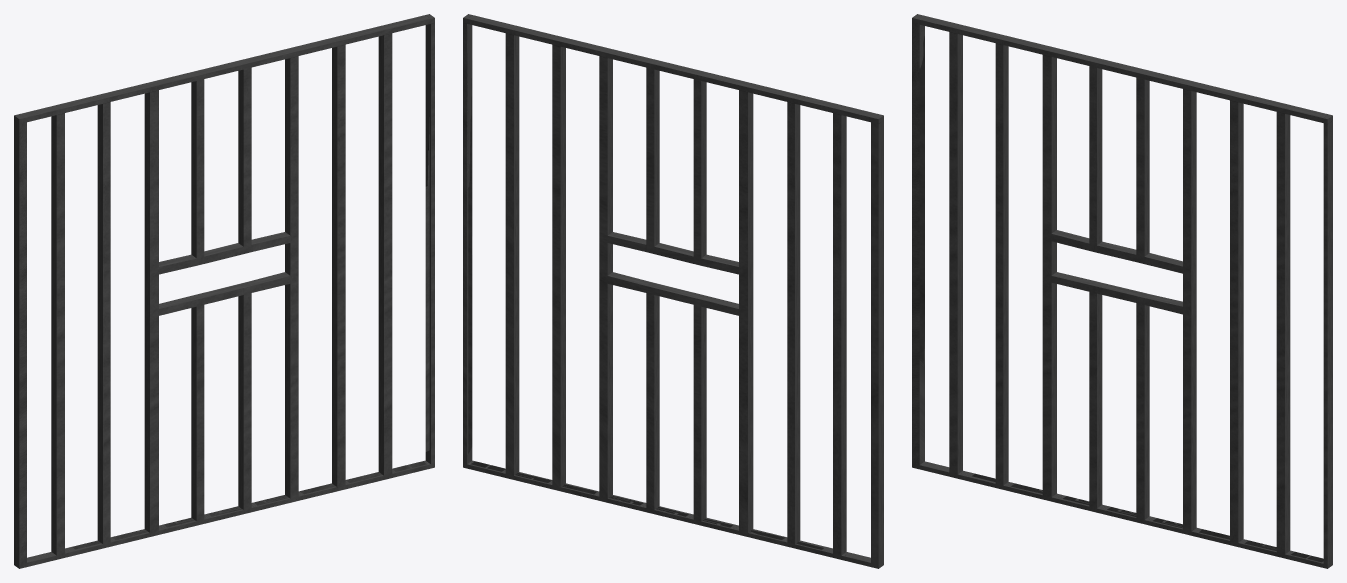
The model's file is bars_s_window_1.fbx.
The picture shows the model from 3 angles, left to right: view 1: azimuth 30°, elevation 25°; view 2: azimuth 150°, elevation 25°; view 3: azimuth 330°, elevation 25°; orthographic projection.
Parts seen in each view (by area): view 1: mrize s oknem; view 2: mrize s oknem; view 3: mrize s oknem.
Boxes of the visible parts, x1,y1,x2,y2 form: mrize s oknem: [14, 14, 434, 568]; mrize s oknem: [463, 14, 883, 568]; mrize s oknem: [912, 14, 1332, 568].
Bounding box in the file's own units: 307 × 317 × 6.77.
